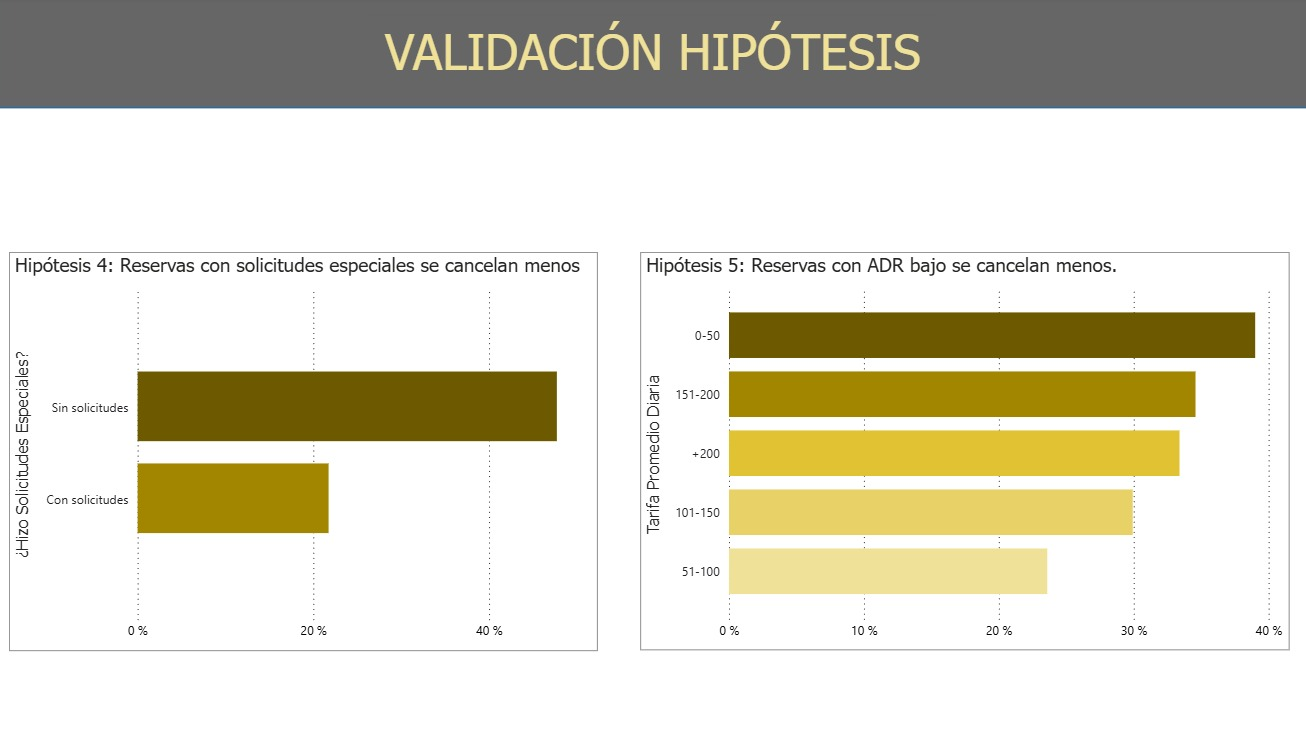

Layout of this report page (visuals, bound fields, positions):
{"tool":"powerbi","page":{"name":"Validación de Hipótesis II","canvas":[1280,720],"ordinal":3},"visuals":[{"type":"shape","box":[10,0,1270.1,108.2],"z":0},{"type":"textbox","box":[363.2,18.3,552.7,70.9],"z":1000},{"type":"clusteredBarChart","title":"Hipótesis 5: Reservas con ADR bajo se cancelan menos.","fields":{"Y":["_Métricas.004 % Tasa Cancelacion"],"Category":["fact_reservas.rango_adr"]},"box":[627.9,249.7,635.1,389.7],"z":2000},{"type":"textbox","box":[10.2,151.1,617.6,40.7],"z":3000},{"type":"clusteredBarChart","title":"Hipótesis 4: Reservas con solicitudes especiales se cancelan menos","fields":{"Y":["_Métricas.004 % Tasa Cancelacion"],"Category":["fact_reservas.tiene_solicitudes"]},"box":[0,249.7,575.9,389.7],"z":6000}]}

Visuals, with their boxes in screenshot pixels (x1, y1, x2, y2), scaled from the page's 1280x720 canvas onto the 1306x730 screenshot:
shape: (left=10, top=0, right=1305, bottom=110)
textbox: (left=371, top=19, right=935, bottom=90)
"Hipótesis 5: Reservas con ADR bajo se cancelan menos." clusteredBarChart: (left=641, top=253, right=1289, bottom=648)
textbox: (left=10, top=153, right=641, bottom=194)
"Hipótesis 4: Reservas con solicitudes especiales se cancelan menos" clusteredBarChart: (left=0, top=253, right=588, bottom=648)
